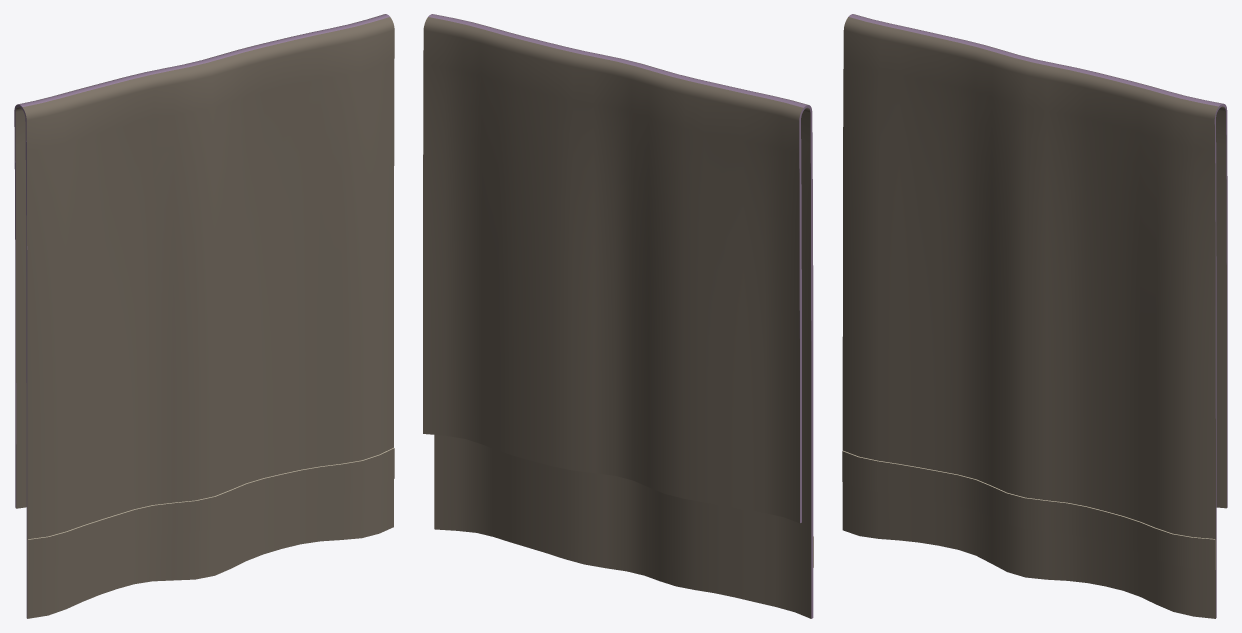
Rendered from towel-line-mint-d82126021c02.glb.
3 views of the same model, side by side, from view 1: azimuth 30°, elevation 25°; view 2: azimuth 150°, elevation 25°; view 3: azimuth 330°, elevation 25° (orthographic).
Visible parts, largest first — view 1: cover-cloth, cloth-lilac, cloth-cream; view 2: cover-cloth, cloth-lilac; view 3: cover-cloth, cloth-lilac, cloth-cream.
Part boxes in pixels (x1,y1,x2,y2): cover-cloth: (15, 14, 394, 618); cloth-lilac: (14, 14, 389, 618); cloth-cream: (27, 447, 394, 569); cover-cloth: (423, 14, 811, 618); cloth-lilac: (428, 14, 813, 618); cover-cloth: (842, 14, 1226, 618); cloth-lilac: (848, 14, 1227, 617); cloth-cream: (842, 450, 1215, 569).
Bounding box in the file's own units: 0.38 × 0.5 × 0.036.
